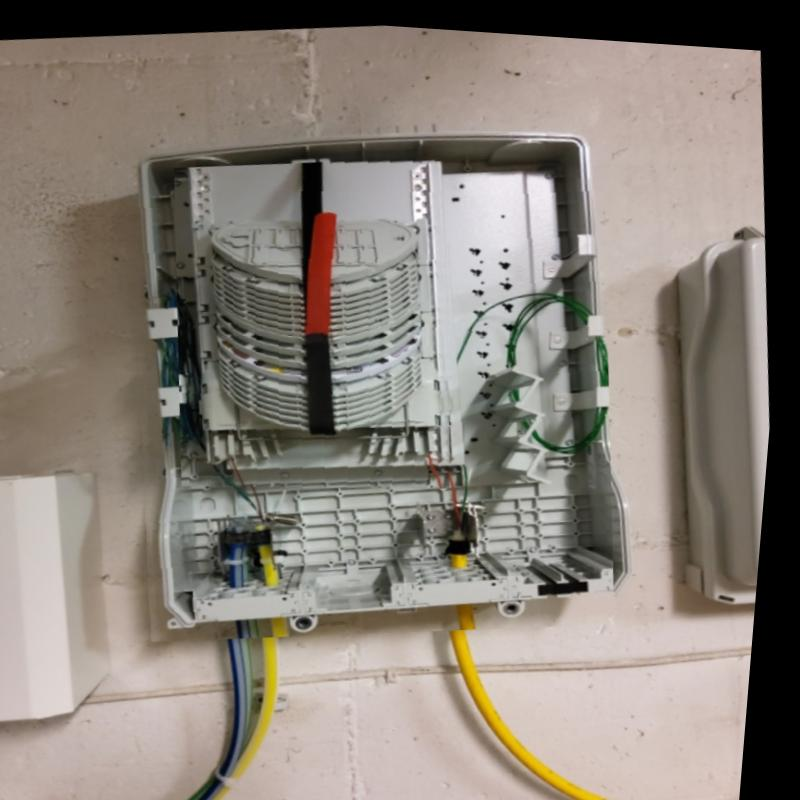NT-Gehause: (98, 89, 656, 664)
Spleiskassetten: (155, 136, 482, 509)
